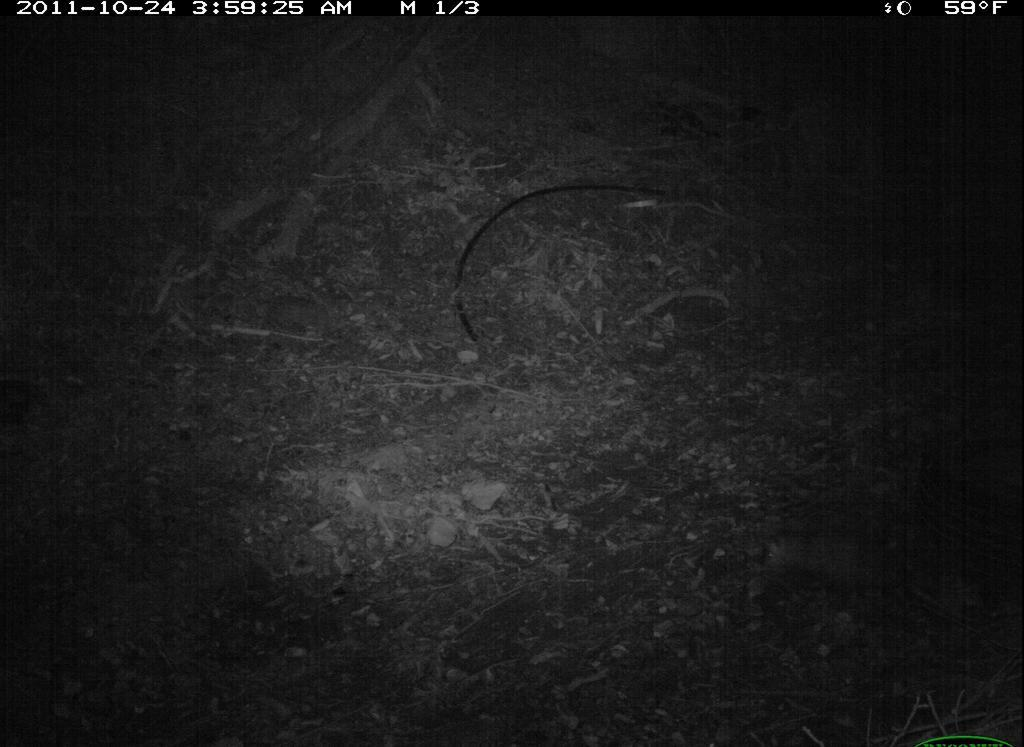opossum: (752, 516, 973, 638)
